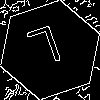L: (25, 25, 67, 77)
